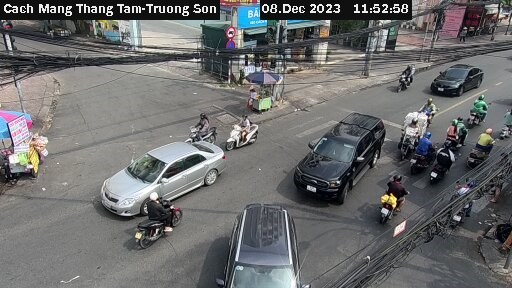car: (99, 138, 225, 213), (215, 199, 317, 288), (293, 111, 385, 208), (430, 60, 484, 100)
motorbike: (125, 195, 185, 245), (372, 176, 413, 226), (228, 116, 272, 153), (448, 182, 479, 225), (180, 112, 223, 142), (469, 130, 500, 169), (398, 117, 422, 160), (427, 147, 459, 179), (463, 92, 492, 126), (445, 114, 470, 153), (415, 102, 445, 129), (400, 64, 419, 91)
